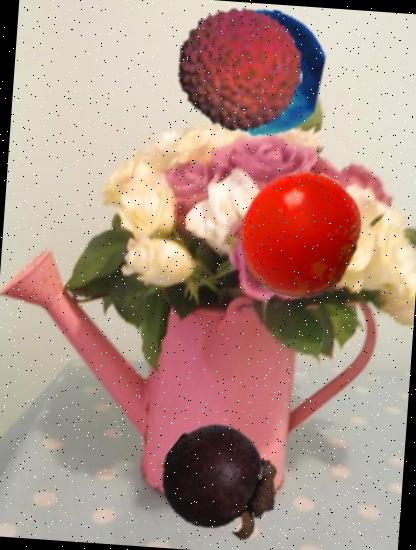Huckleberry: (193, 4, 330, 141)
Lychee: (171, 1, 307, 137)
Mangostan: (156, 418, 284, 546)
Tomato: (231, 165, 368, 303)
